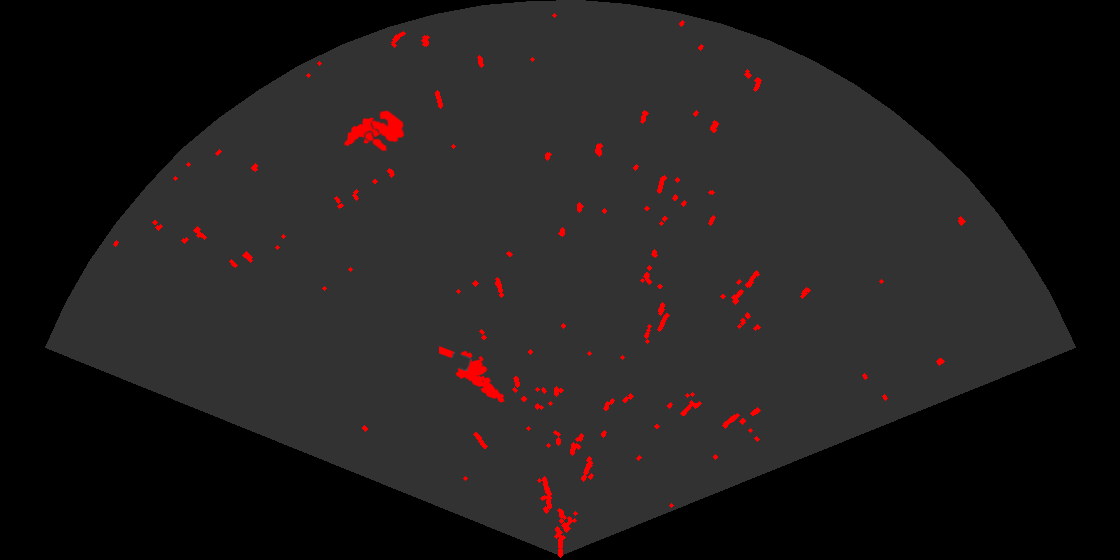AUV: (343, 116, 388, 148)
ball: (363, 109, 406, 153)
frogman: (439, 345, 506, 404)
